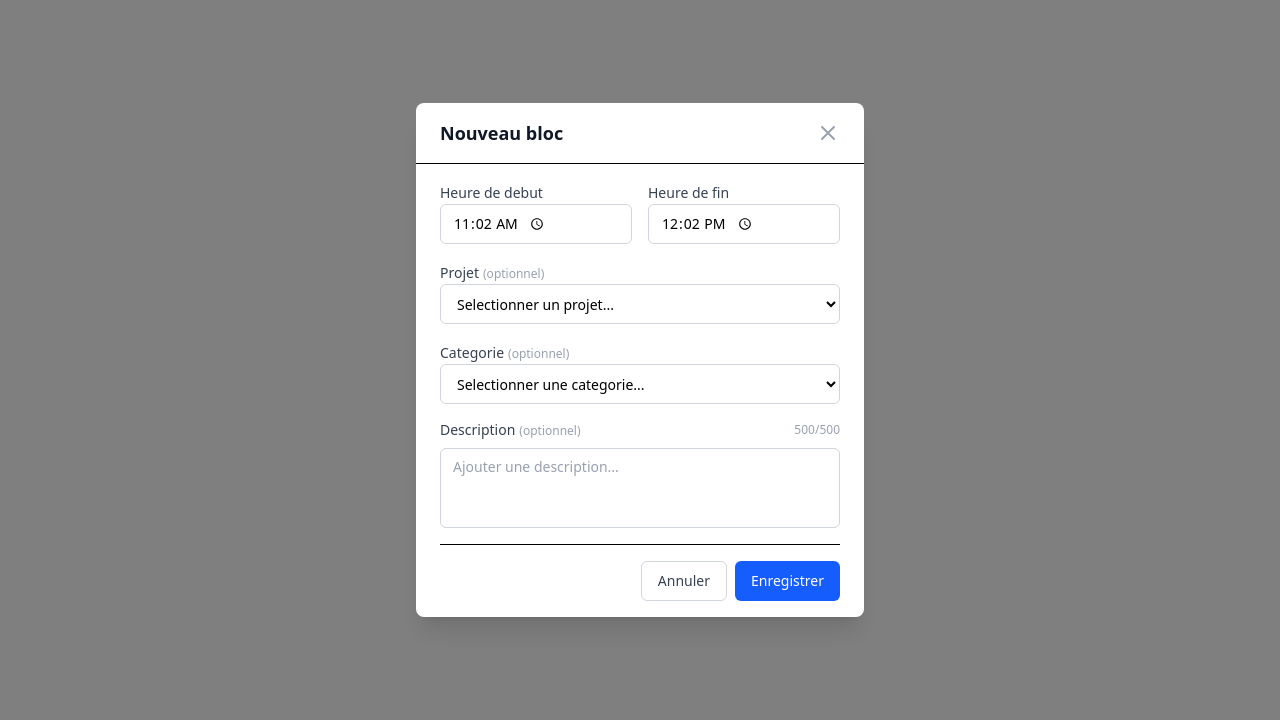
Test: BlockModal › Validation › shows error when start time is missing
Note: Clear start time
Clear the time field labelled "Heure de debut". click: [536, 224]
box: [440,204,632,244]
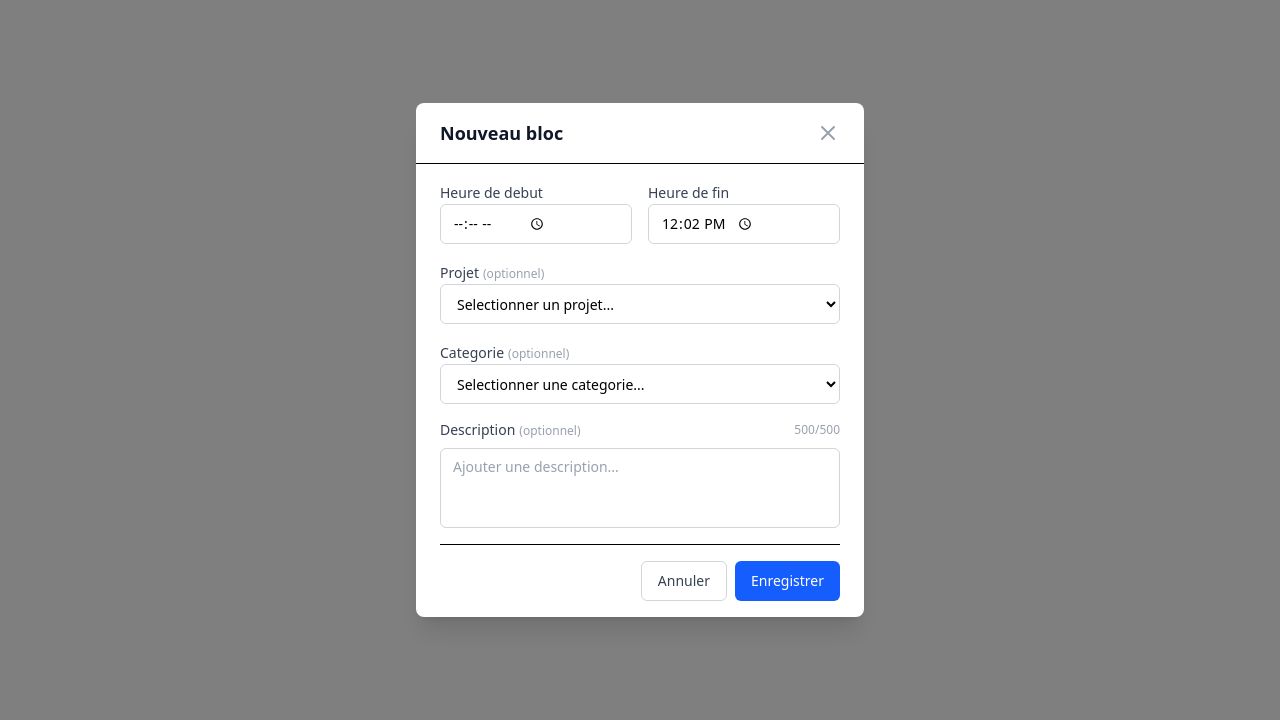
Note: Try to save
Click the button "Enregistrer". click: [788, 581]
box: [735,561,840,601]
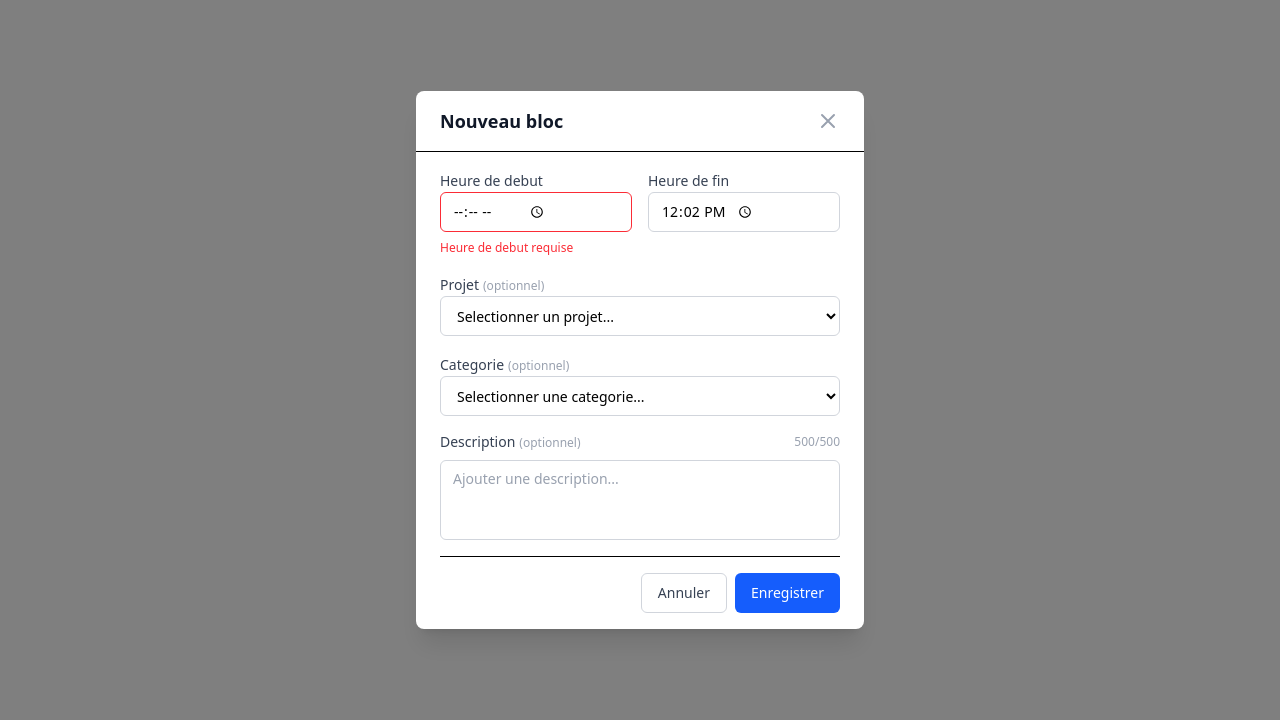
Check: the text "Heure de debut requise" is shown, box [440,239,573,256]
